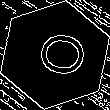O_W: (25, 29, 85, 81)
